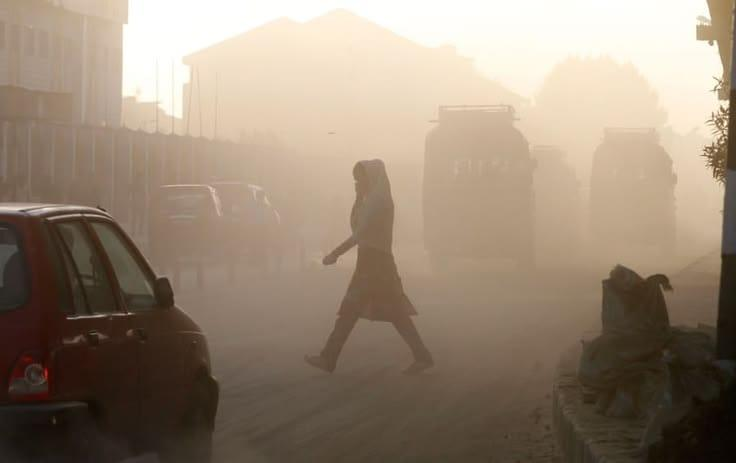Gedung: (162, 0, 544, 146), (0, 0, 236, 199)
Kendaraan: (0, 176, 229, 463), (404, 93, 555, 298), (584, 117, 680, 272), (127, 150, 232, 282), (214, 175, 295, 270)
Manusia: (311, 134, 429, 385)
Vegetasi: (703, 68, 736, 195)
